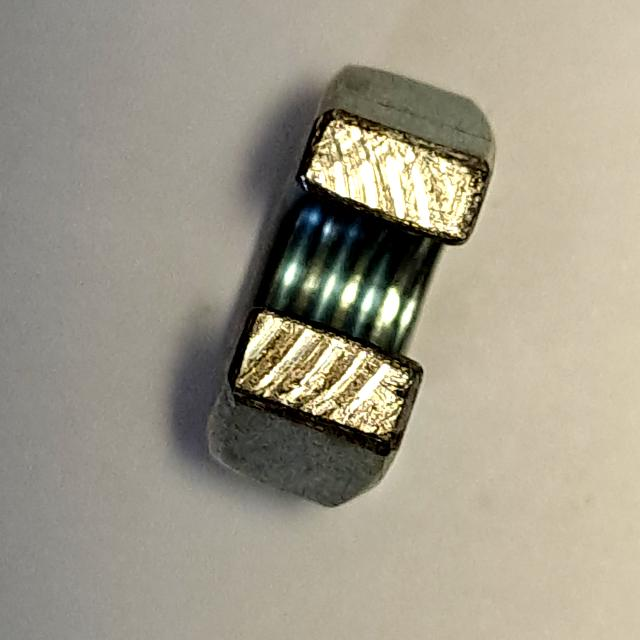Side-Fracture: (186, 60, 510, 521)
